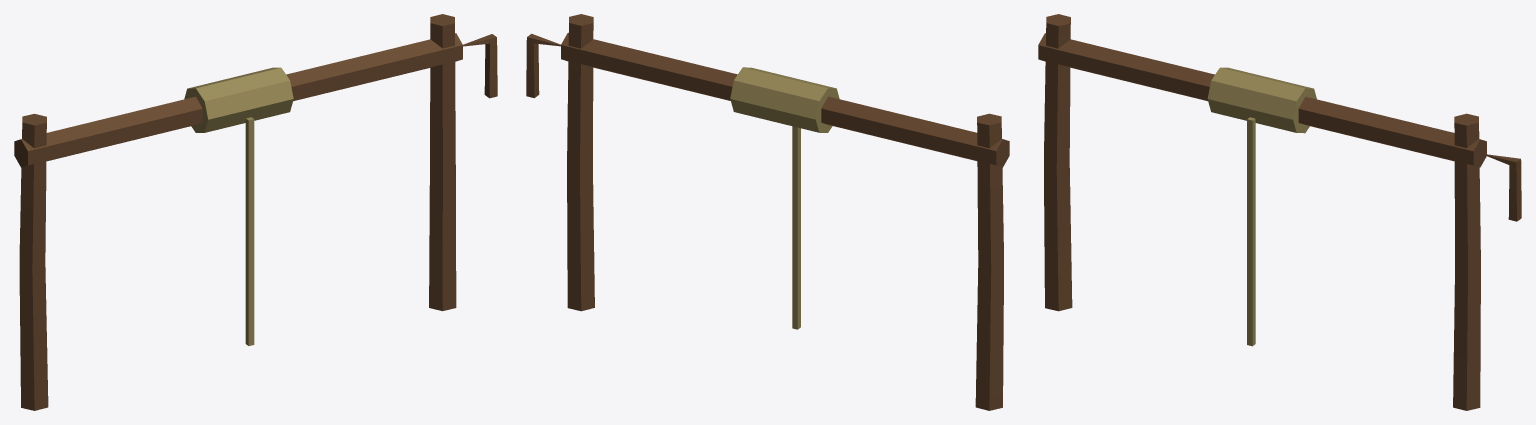
Rendered from Windlass.fbx.
The picture shows the model from 3 angles, left to right: view 1: azimuth 30°, elevation 25°; view 2: azimuth 150°, elevation 25°; view 3: azimuth 330°, elevation 25°; orthographic projection.
Parts seen in each view (by area): view 1: Windlass; view 2: Windlass; view 3: Windlass.
Boxes of the visible parts, box(x1,y1,x2,y2) form: Windlass: box(14, 14, 497, 410); Windlass: box(526, 14, 1009, 410); Windlass: box(1038, 14, 1521, 410).
Size of the model in its own units: 2.45 by 1.4 by 0.2241.
